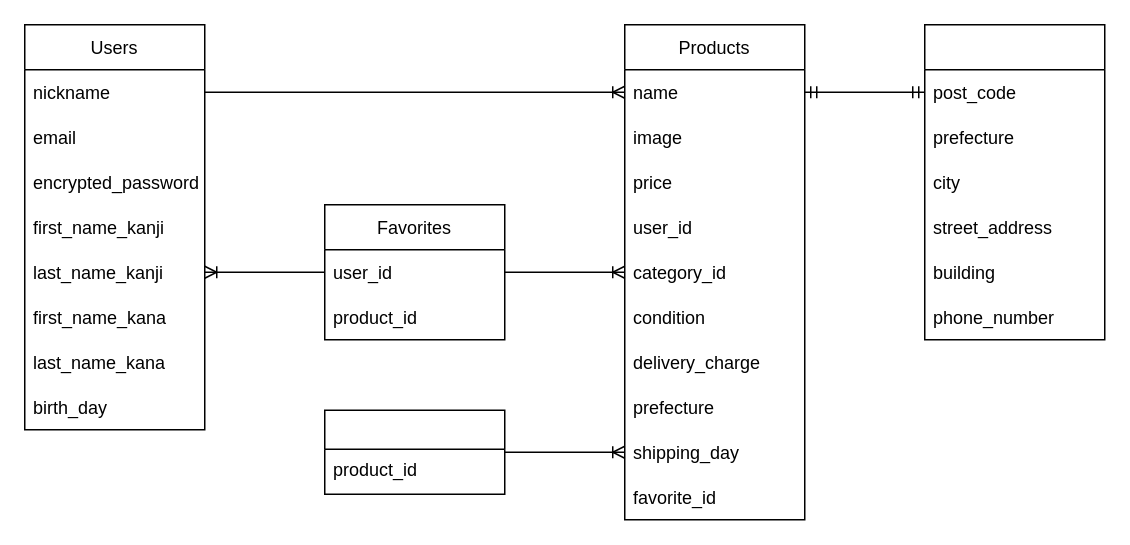
Some shapes in this 1130 by 545 pixel diagram are drawn without their labels. Here are the shapes that lost their labels. From the top down, the box of each, then its label:
(923, 23, 1105, 340): Shipping_address
(323, 409, 505, 494): Purchase_list
